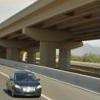Bridge: (1, 1, 92, 55)
